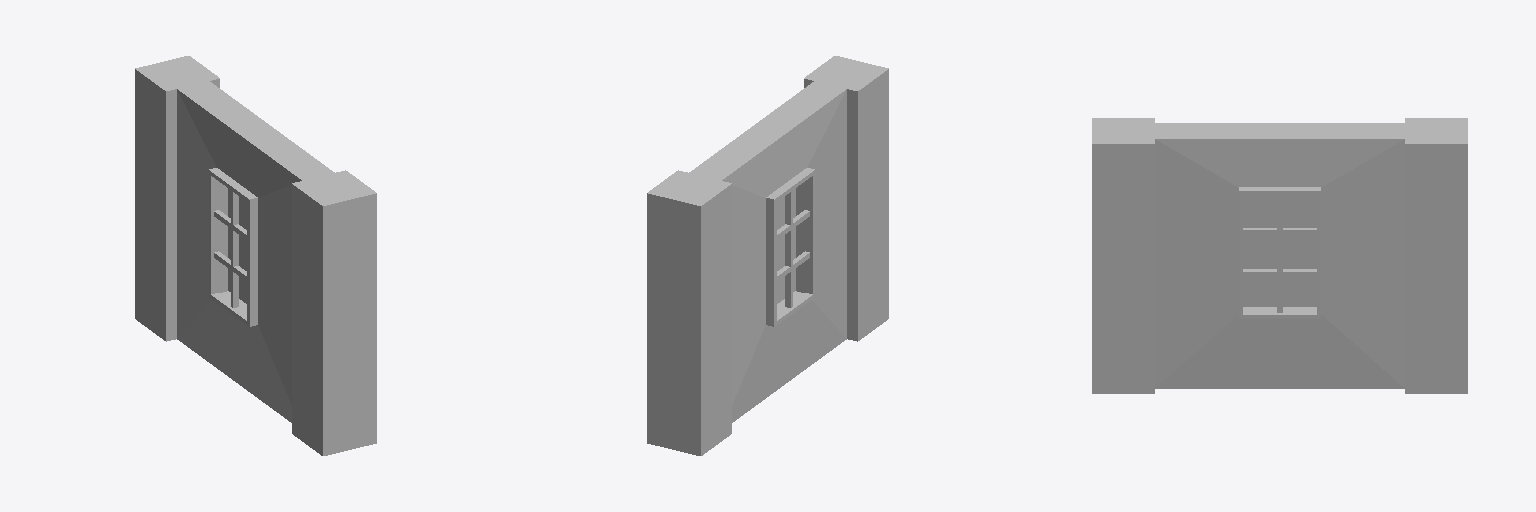
File: Wall New Window.obj
3 renders of one model, left to right at view 1: azimuth 30°, elevation 25°; view 2: azimuth 150°, elevation 25°; view 3: azimuth 270°, elevation 25°, orthographic.
Visible parts, largest first — view 1: Wood_Window_Square_01, Cube_Cube.001; view 2: Wood_Window_Square_01, Cube_Cube.001; view 3: Wood_Window_Square_01, Cube_Cube.001.
Part boxes in pixels (x1,y1,x2,y2): Wood_Window_Square_01: (135, 56, 376, 455); Cube_Cube.001: (209, 168, 257, 326); Wood_Window_Square_01: (647, 56, 888, 455); Cube_Cube.001: (766, 168, 814, 326); Wood_Window_Square_01: (1092, 118, 1467, 393); Cube_Cube.001: (1239, 187, 1320, 318).
Bounding box in the file's own units: 0.5 × 2.2 × 3.